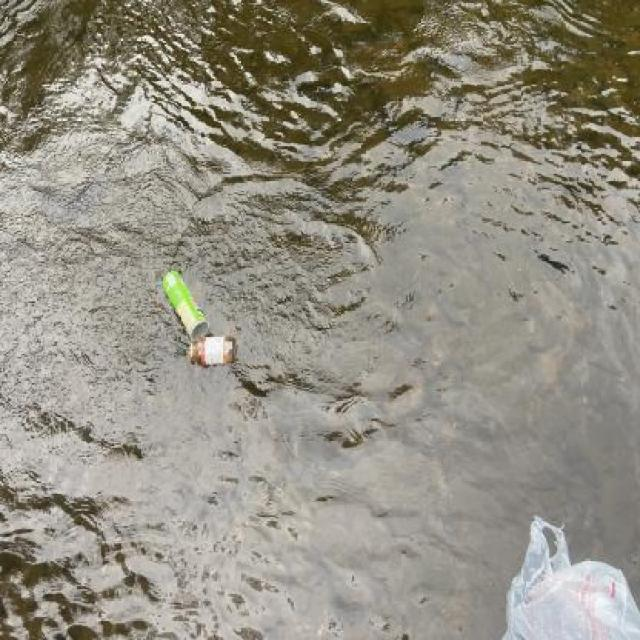Bottle-Glass: (187, 333, 235, 368)
Can-Metal: (161, 267, 209, 339)
Plastic: (495, 511, 640, 640)
